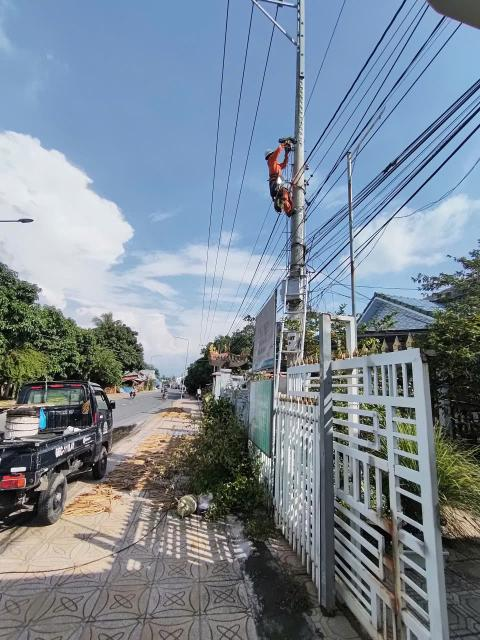harness: (267, 172, 284, 182)
helmet: (260, 146, 276, 158)
